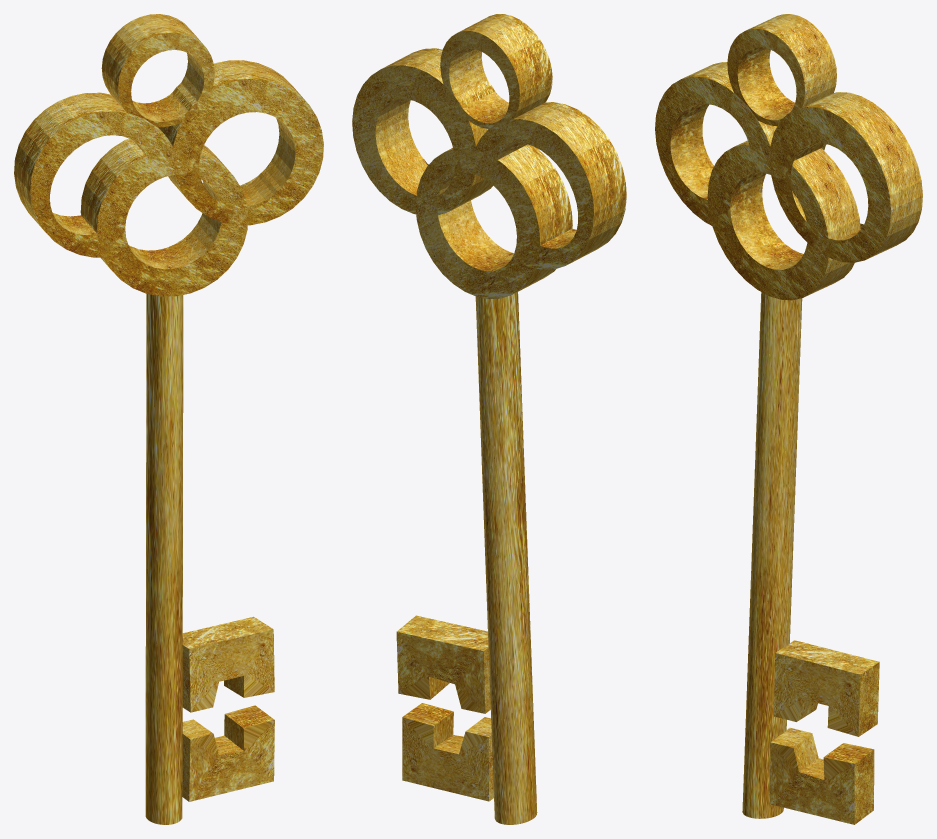
The model's file is Key.obj.
The picture shows the model from 3 angles, left to right: view 1: azimuth 30°, elevation 25°; view 2: azimuth 150°, elevation 25°; view 3: azimuth 330°, elevation 25°; orthographic projection. The views are drawn at different scales.
Visible parts, largest first — view 1: body, DownRing, RightRing_RightRIng, LeftRIng_LeftRing, Upring_UpRing, DownTip, UpTip; view 2: body, DownRing, RightRing_RightRIng, LeftRIng_LeftRing, Upring_UpRing, UpTip, DownTip; view 3: body, DownRing, RightRing_RightRIng, LeftRIng_LeftRing, Upring_UpRing, DownTip, UpTip.
Part boxes in pixels (<box>): body: <box>145,294,183,824</box>; DownRing: <box>80,138,248,296</box>; RightRing_RightRIng: <box>158,60,323,225</box>; LeftRIng_LeftRing: <box>14,92,181,257</box>; Upring_UpRing: <box>101,14,214,127</box>; DownTip: <box>182,705,274,801</box>; UpTip: <box>182,616,274,712</box>; body: <box>475,292,537,824</box>; DownRing: <box>415,144,572,299</box>; RightRing_RightRIng: <box>352,48,494,216</box>; LeftRIng_LeftRing: <box>474,102,626,269</box>; Upring_UpRing: <box>440,14,552,129</box>; UpTip: <box>396,615,490,713</box>; DownTip: <box>402,703,493,801</box>; body: <box>742,292,802,818</box>; DownRing: <box>707,140,860,300</box>; RightRing_RightRIng: <box>770,92,922,262</box>; LeftRIng_LeftRing: <box>655,62,777,228</box>; Upring_UpRing: <box>727,14,836,125</box>; DownTip: <box>770,728,874,824</box>; UpTip: <box>774,640,879,736</box>.
Bounding box in the file's own units: 1.91 × 5.24 × 0.6401.
Materials: 1 (1 with a texture image).
